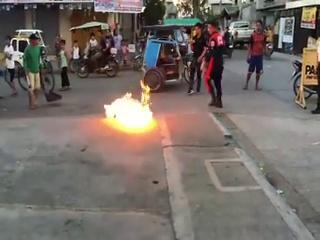Fire: (103, 93, 153, 132)
